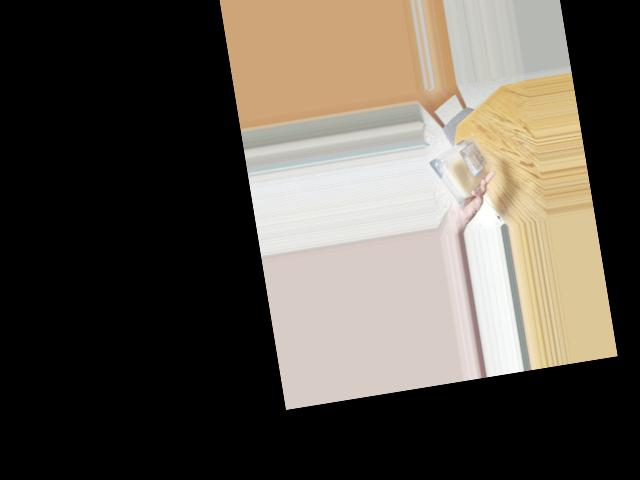cheese: (431, 136, 486, 209)
